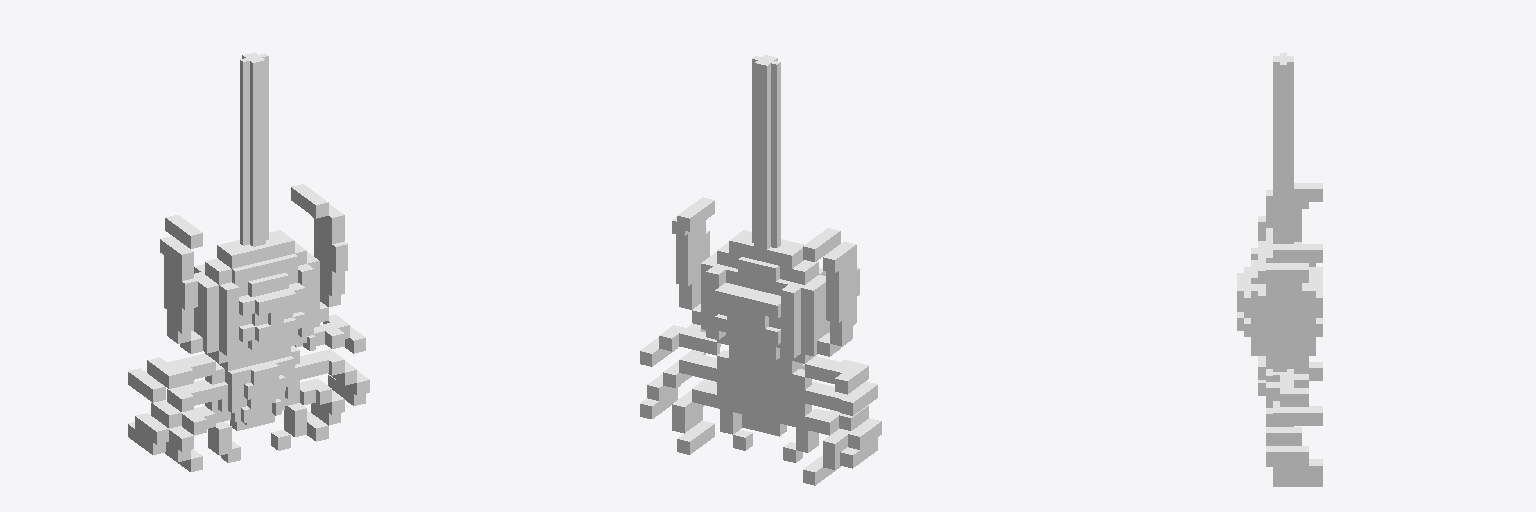
Rendered from 3DSpider 1.obj.
3 renders of one model, left to right at view 1: azimuth 30°, elevation 25°; view 2: azimuth 150°, elevation 25°; view 3: azimuth 270°, elevation 25°, orthographic.
Visible parts, largest first — view 1: Spider-1; view 2: Spider-1; view 3: Spider-1.
Part boxes in pixels (left/top/right/bottom): Spider-1: left=128, top=52, right=369, bottom=471; Spider-1: left=640, top=55, right=881, bottom=485; Spider-1: left=1237, top=53, right=1322, bottom=486.
Size of the model in its own units: 3.4 by 6 by 1.2.